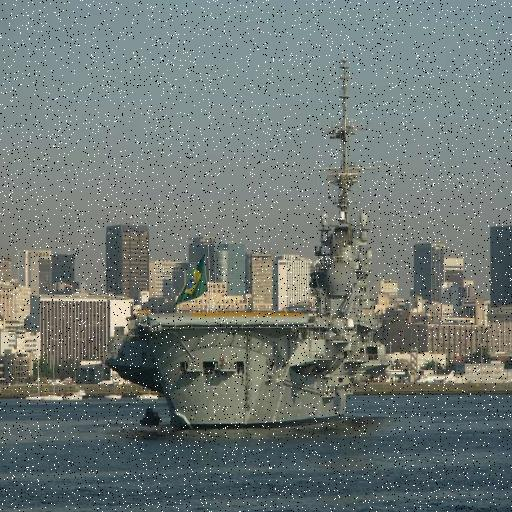Portanaves: (104, 51, 387, 434)
